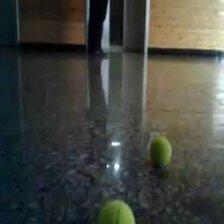tennis: (150, 136, 172, 170)
